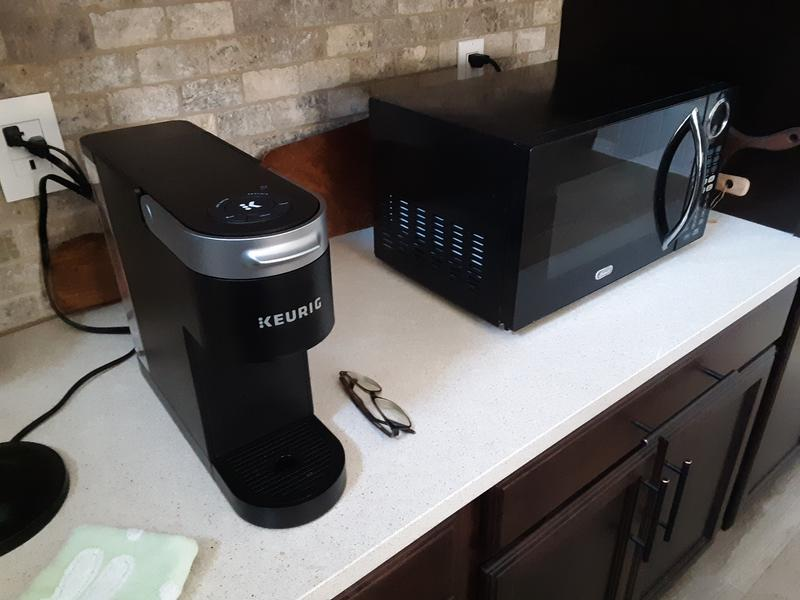glasses: (337, 368, 415, 440)
